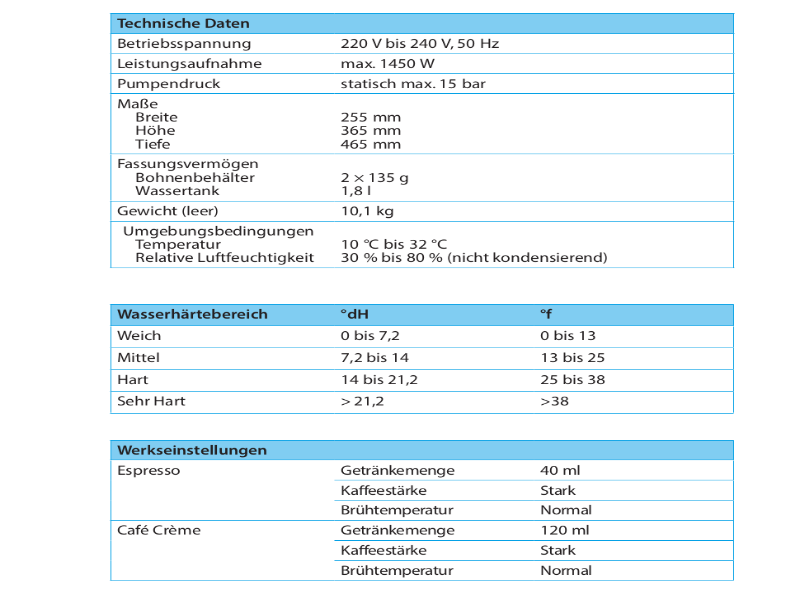border: (103, 7, 749, 274), (102, 434, 744, 589), (103, 296, 748, 423)
cell: (112, 223, 319, 264), (337, 235, 611, 264), (113, 157, 261, 197), (113, 96, 213, 150), (114, 304, 271, 323), (337, 108, 408, 150), (115, 441, 271, 458), (113, 55, 269, 71), (336, 35, 502, 50), (336, 76, 493, 90), (113, 36, 258, 51), (336, 168, 411, 197), (113, 15, 256, 30), (339, 462, 460, 478), (339, 482, 460, 498), (338, 502, 459, 518), (338, 521, 459, 537), (337, 542, 458, 558), (337, 562, 458, 578), (113, 75, 231, 90), (113, 522, 205, 540), (113, 203, 222, 218), (336, 56, 442, 69), (338, 371, 420, 387), (536, 372, 608, 388), (338, 349, 412, 364), (536, 328, 604, 344), (336, 204, 413, 218), (114, 395, 191, 409), (536, 351, 607, 366), (113, 464, 185, 478), (339, 328, 410, 342), (535, 503, 594, 518), (536, 522, 595, 537), (536, 542, 595, 557), (537, 562, 596, 577), (336, 394, 393, 409), (536, 461, 585, 478), (535, 482, 584, 499), (114, 329, 170, 342), (113, 350, 169, 363), (114, 372, 170, 385), (336, 306, 380, 321), (536, 394, 577, 409), (539, 306, 557, 322)
